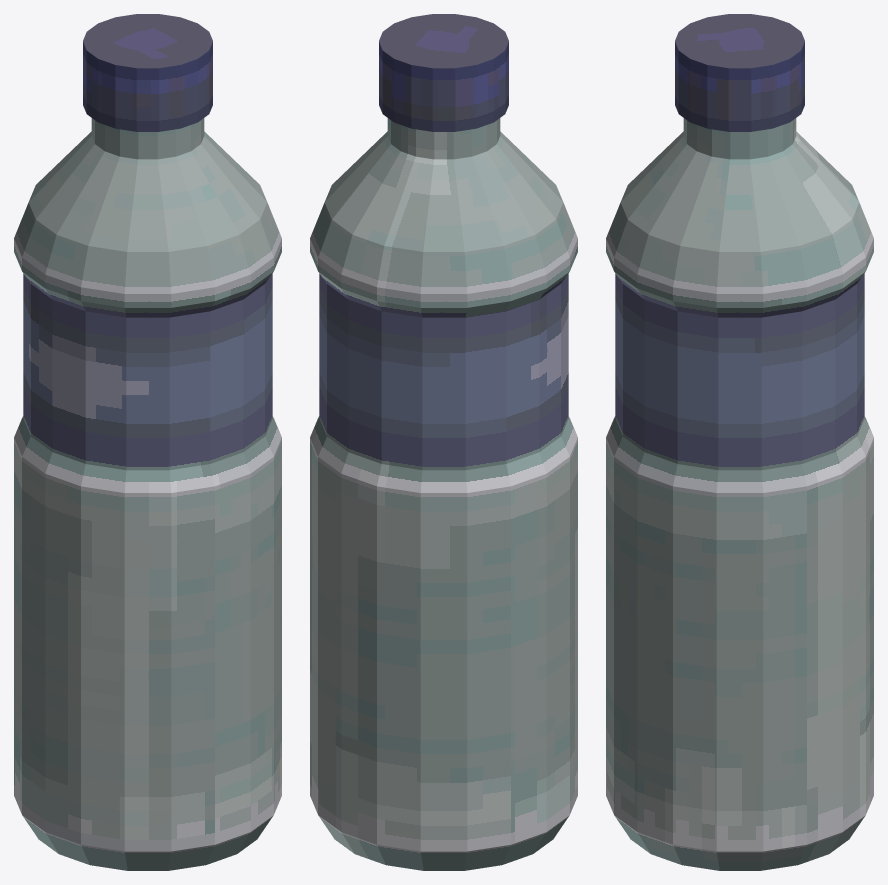
File: Water_bottle.fbx
3 views of the same model, side by side, from view 1: azimuth 30°, elevation 25°; view 2: azimuth 150°, elevation 25°; view 3: azimuth 270°, elevation 25° (orthographic).
Parts seen in each view (by area): view 1: Cylinder; view 2: Cylinder; view 3: Cylinder.
Part boxes in pixels (bbox=[...]): Cylinder: bbox=[14, 14, 281, 870]; Cylinder: bbox=[310, 14, 577, 870]; Cylinder: bbox=[606, 14, 873, 870].
Bounding box in the file's own units: 56.78 × 186 × 57.66.
Materials: 1 (1 with a texture image).
